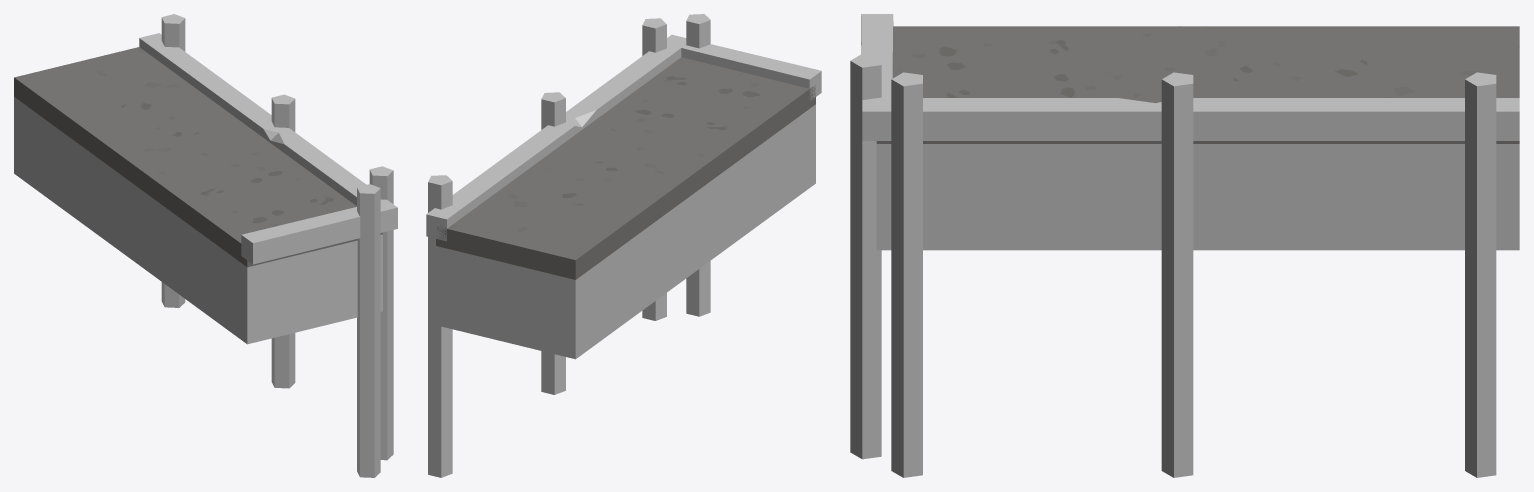
File: SM_Bld_Background_Dock_06.fbx
The picture shows the model from 3 angles, left to right: view 1: azimuth 30°, elevation 25°; view 2: azimuth 150°, elevation 25°; view 3: azimuth 270°, elevation 25°; orthographic projection. The views are drawn at different scales.
Parts seen in each view (by area): view 1: SM_Bld_Background_Dock_06; view 2: SM_Bld_Background_Dock_06; view 3: SM_Bld_Background_Dock_06.
Part boxes in pixels (<box>): SM_Bld_Background_Dock_06: <box>14,14,397,477</box>; SM_Bld_Background_Dock_06: <box>426,14,821,477</box>; SM_Bld_Background_Dock_06: <box>850,14,1519,477</box>.
Bounding box in the file's own units: 405 × 706 × 1093.
